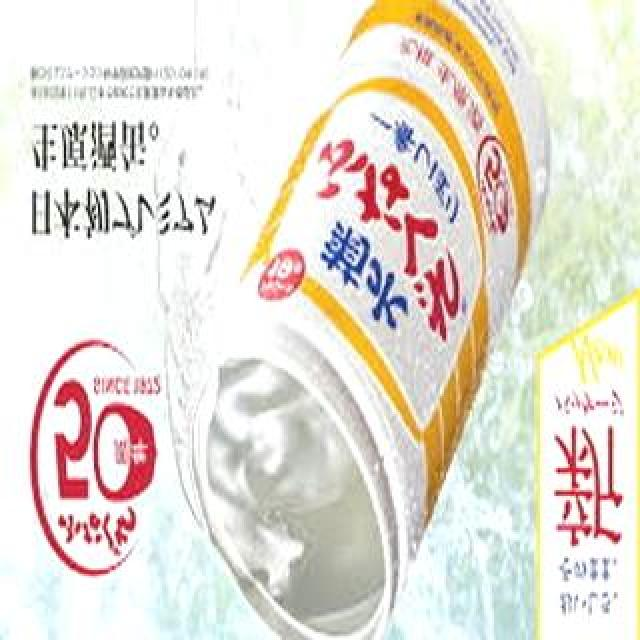Can: (180, 0, 554, 640)
